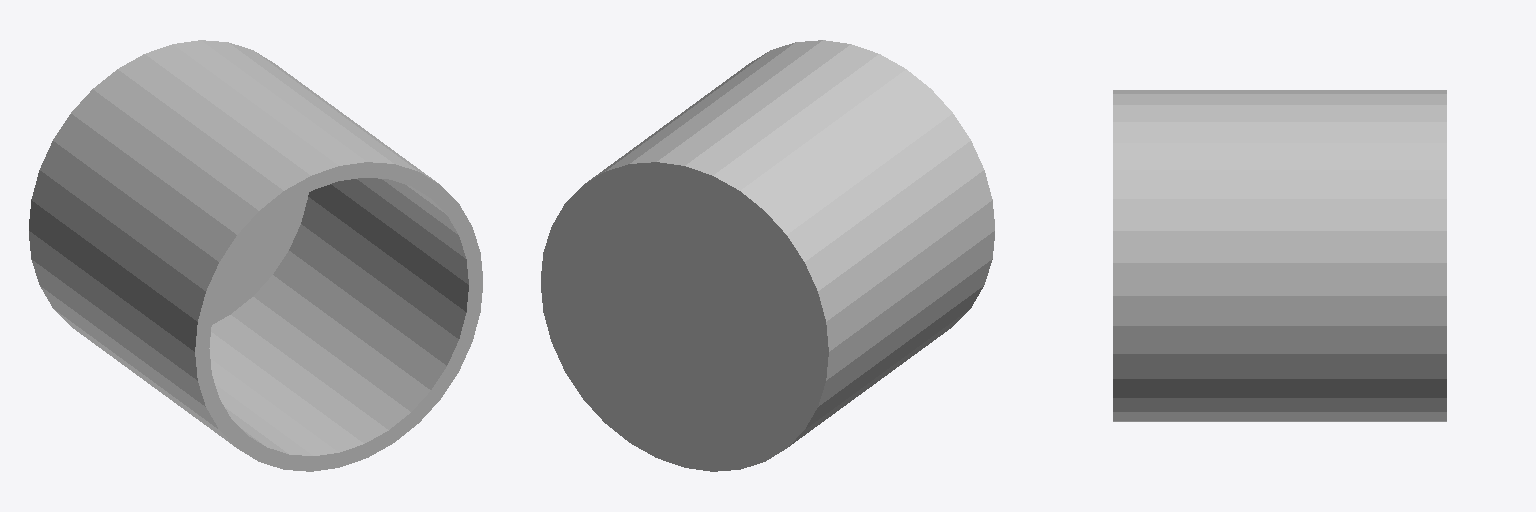
Rendered from CylinderHollowOpenInverted.obj.
3 views of the same model, side by side, from view 1: azimuth 30°, elevation 25°; view 2: azimuth 150°, elevation 25°; view 3: azimuth 270°, elevation 25° (orthographic).
Parts seen in each view (by area): view 1: Cylinder.007; view 2: Cylinder.007; view 3: Cylinder.007.
Part boxes in pixels (bbox=[...]): Cylinder.007: bbox=[29, 40, 482, 471]; Cylinder.007: bbox=[541, 40, 994, 471]; Cylinder.007: bbox=[1113, 90, 1446, 421].
Size of the model in its own units: 200 by 200 by 200.